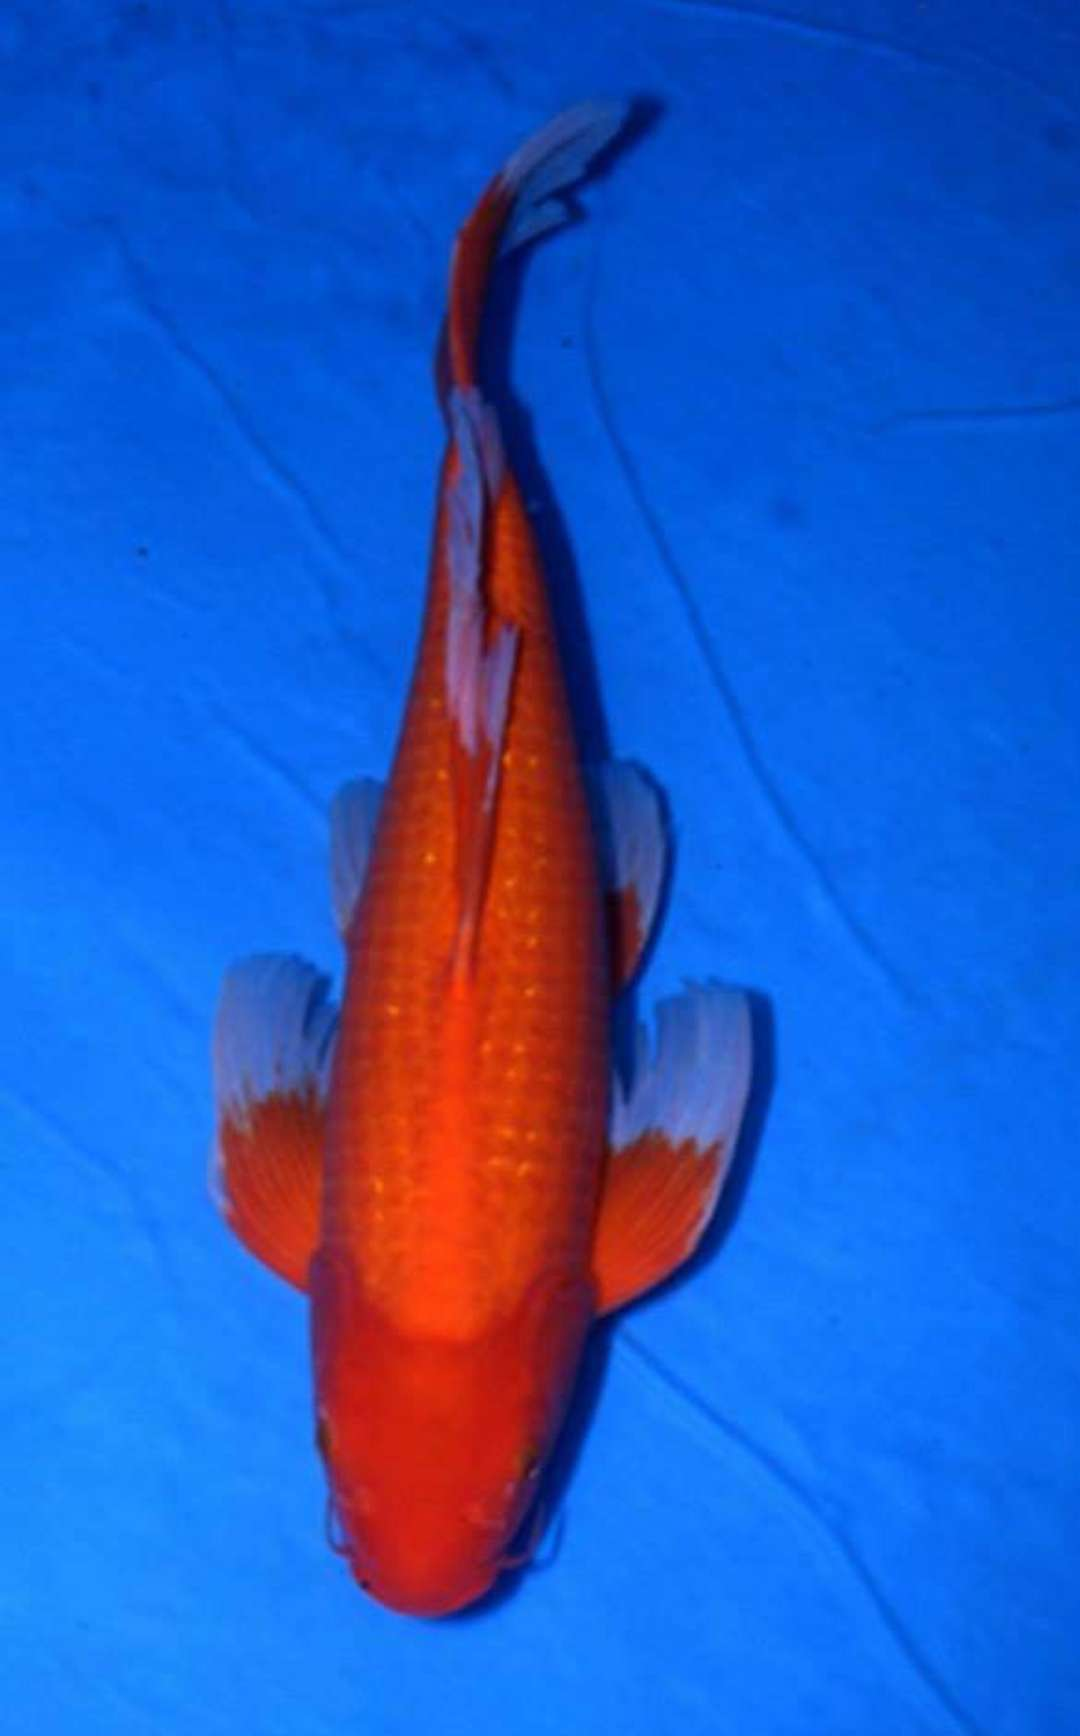red: (205, 99, 761, 1622)
